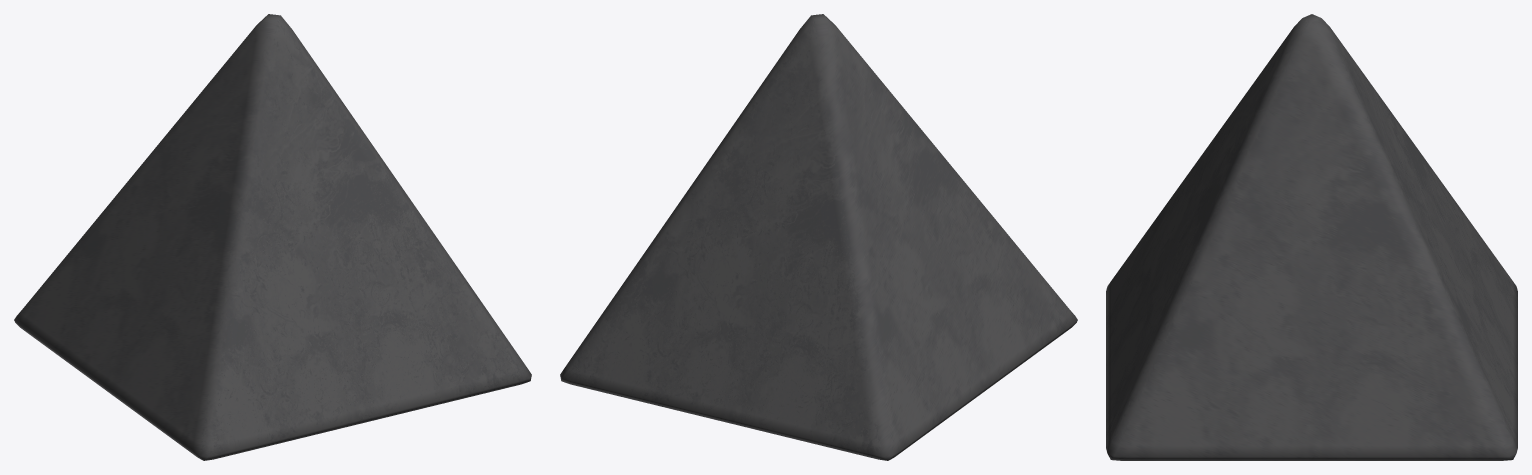
3 renders of one model, left to right at view 1: azimuth 30°, elevation 25°; view 2: azimuth 150°, elevation 25°; view 3: azimuth 270°, elevation 25°, orthographic. The views are drawn at different scales.
Visible parts, largest first — view 1: Cube.002; view 2: Cube.002; view 3: Cube.002.
Boxes of the visible parts, x1=… form: Cube.002: x1=14, y1=14, x2=531, y2=460; Cube.002: x1=560, y1=14, x2=1077, y2=460; Cube.002: x1=1106, y1=14, x2=1517, y2=460.
Size of the model in its own units: 1.96 by 1.89 by 1.96.
Materials: 1 (1 with a texture image).
